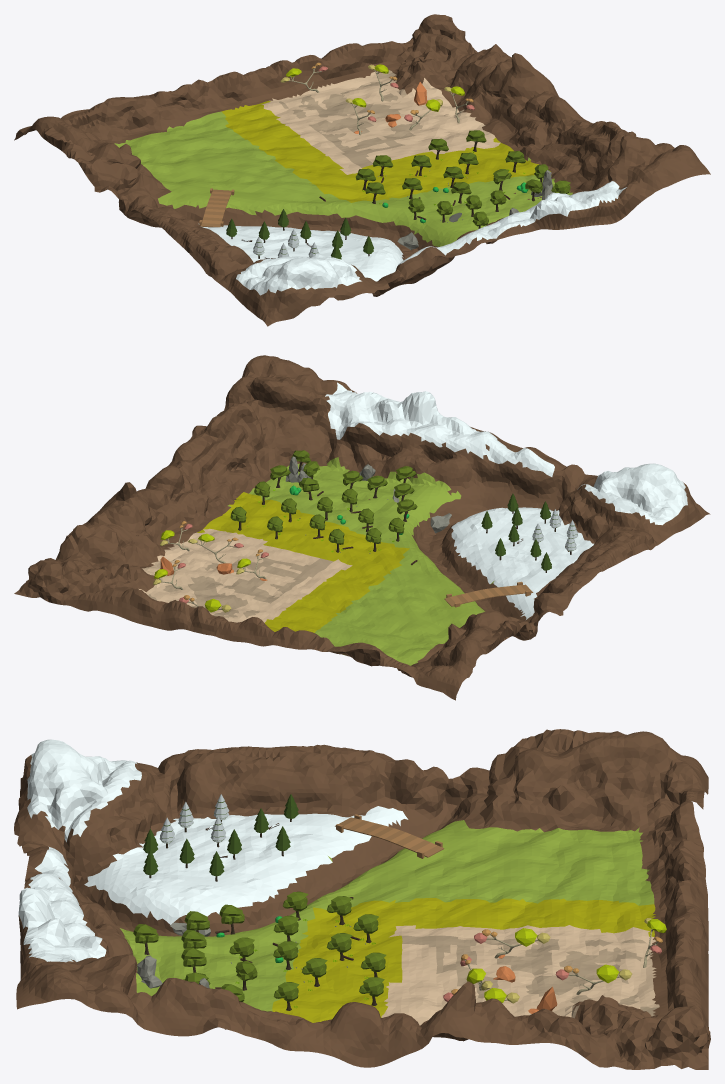
The model's file is Terrain.fbx.
3 renders of one model, top to bottom at view 1: azimuth 30°, elevation 25°; view 2: azimuth 150°, elevation 25°; view 3: azimuth 270°, elevation 25°, orthographic. The views are drawn at different scales.
Visible parts, largest first — view 1: Terrain, Bridge; view 2: Terrain, Bridge; view 3: Terrain, Bridge.
Boxes of the visible parts, x1,y1,x2,y2 form: Terrain: (14, 14, 710, 326); Bridge: (199, 188, 234, 227); Terrain: (14, 355, 710, 700); Bridge: (444, 581, 533, 607); Terrain: (14, 729, 710, 1069); Bridge: (335, 814, 444, 858).
Bounding box in the file's own units: 2218 × 425 × 2209.
